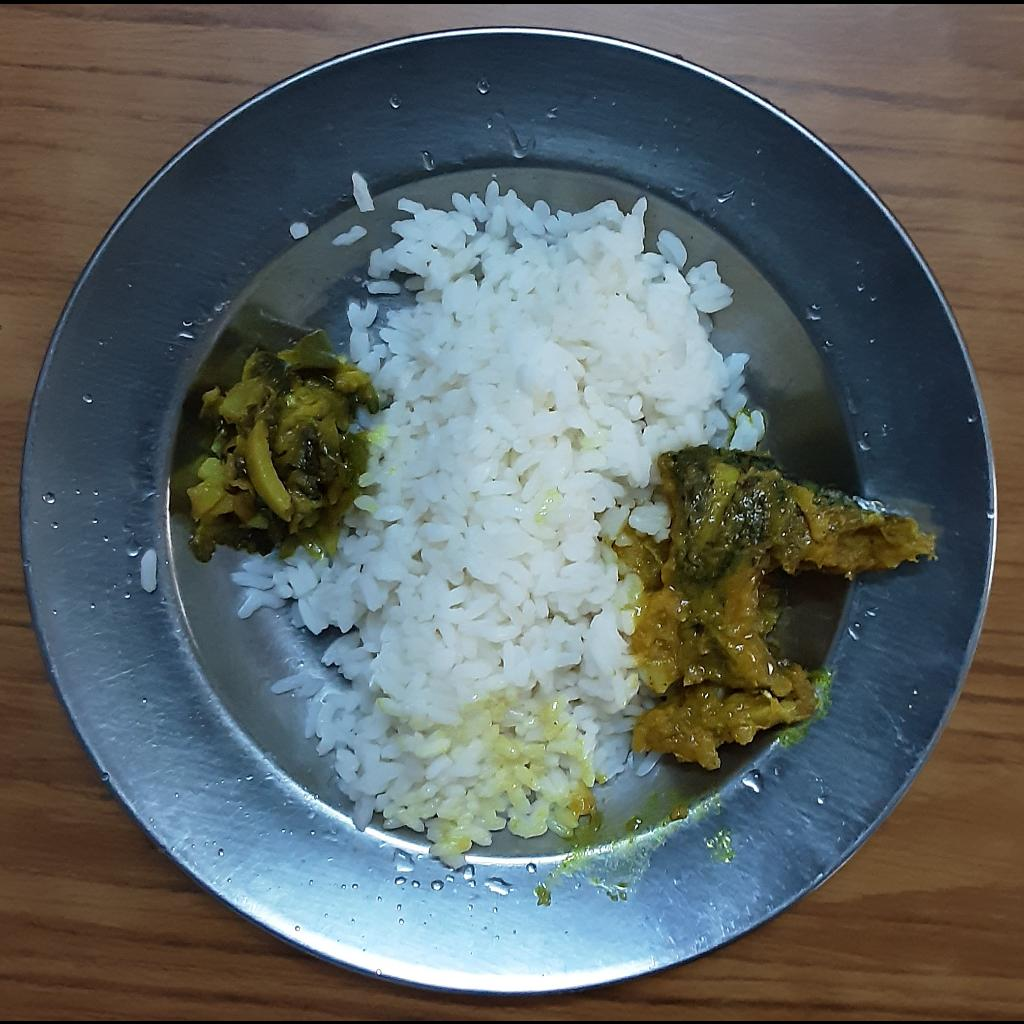fish: (613, 445, 937, 774)
rice: (226, 173, 767, 869)
shak: (188, 325, 374, 561)
